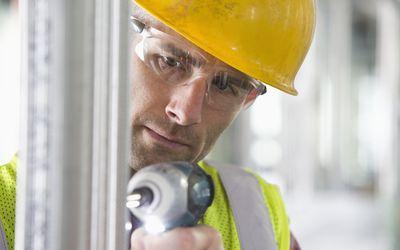helmet: (128, 1, 320, 95)
